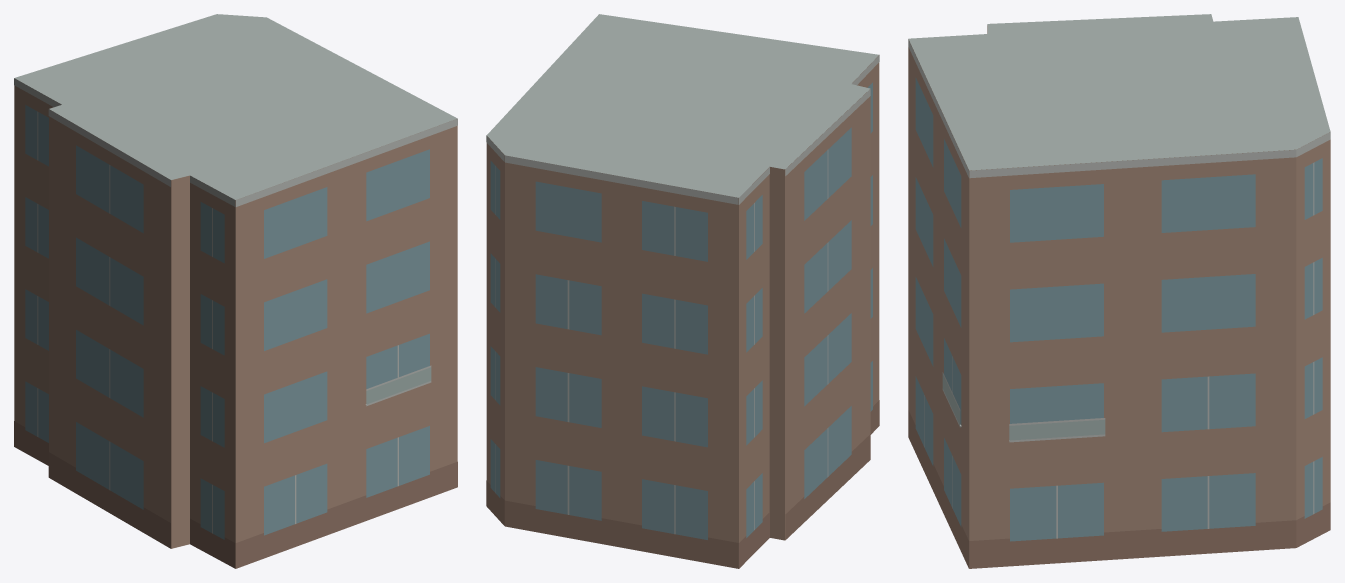
File: survey-upis-33023821.glb
3 views of the same model, side by side, from view 1: azimuth 30°, elevation 25°; view 2: azimuth 150°, elevation 25°; view 3: azimuth 270°, elevation 25° (orthographic). The views are drawn at different scales.
Visible parts, largest first — view 1: survey-upis-33023821.tmp; view 2: survey-upis-33023821.tmp; view 3: survey-upis-33023821.tmp.
Boxes of the visible parts, bbox=[...] form: survey-upis-33023821.tmp: bbox=[14, 14, 457, 568]; survey-upis-33023821.tmp: bbox=[486, 14, 879, 568]; survey-upis-33023821.tmp: bbox=[908, 14, 1330, 568].
Size of the model in its own units: 10.63 by 12.6 by 12.12.
